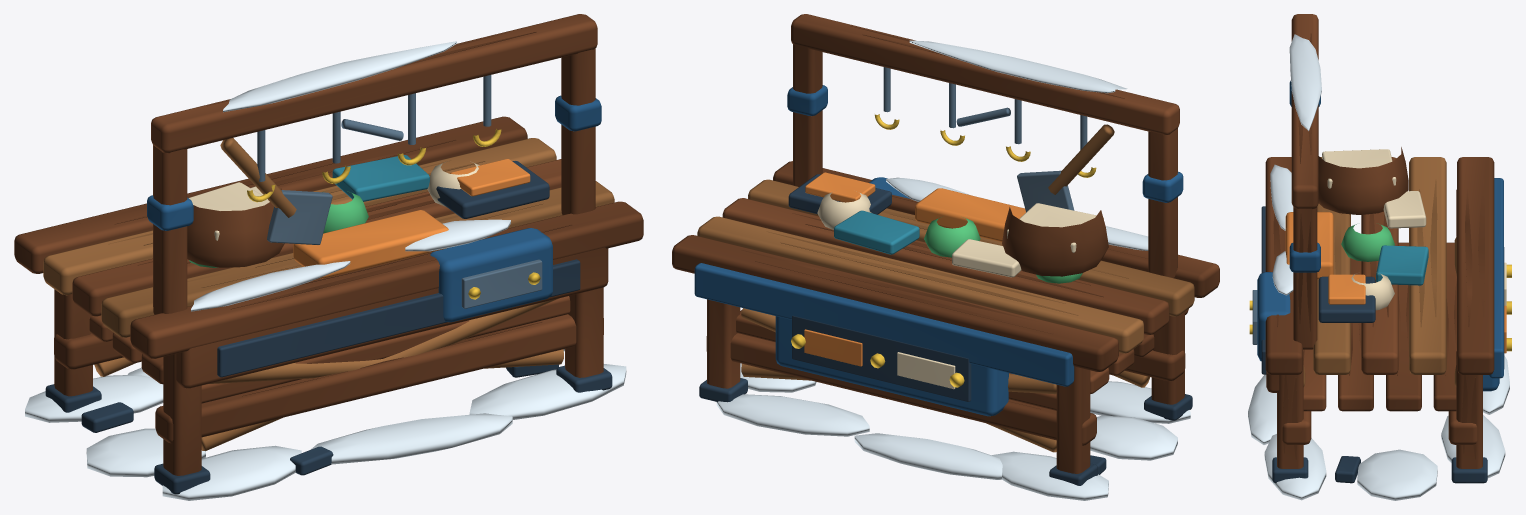
The model's file is service_counter.glb.
The picture shows the model from 3 angles, left to right: view 1: azimuth 30°, elevation 25°; view 2: azimuth 150°, elevation 25°; view 3: azimuth 270°, elevation 25°; orthographic projection. The views are drawn at different scales.
Visible parts, largest first — view 1: service_counter; view 2: service_counter; view 3: service_counter.
Part boxes in pixels (x1=…): service_counter: x1=14, y1=14, x2=643, y2=500; service_counter: x1=672, y1=14, x2=1219, y2=500; service_counter: x1=1248, y1=14, x2=1511, y2=500.
Bounding box in the file's own units: 3.2 × 2.32 × 1.77.
